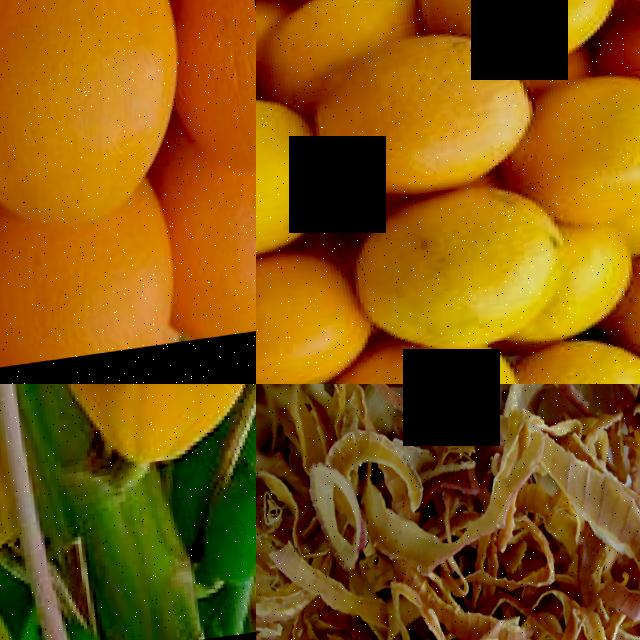orange: (0, 0, 195, 248), (353, 183, 568, 365), (312, 30, 515, 203), (0, 206, 178, 374), (515, 69, 640, 239), (256, 245, 365, 384), (256, 89, 325, 269), (417, 0, 622, 48), (506, 330, 640, 384), (352, 345, 519, 384)
pawpaw: (53, 384, 254, 475)
